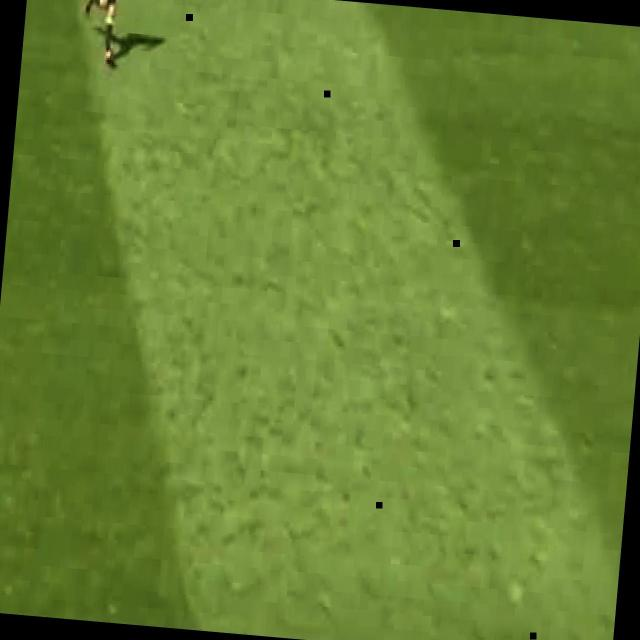player-white: (76, 0, 138, 66)
